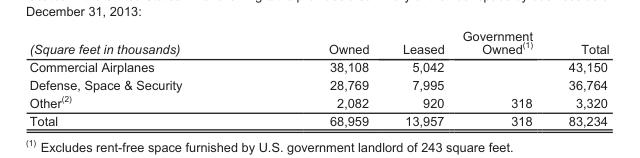table: (28, 28, 608, 127)
table column: (28, 28, 254, 127), (254, 28, 385, 127), (452, 28, 549, 127), (385, 28, 452, 127), (549, 28, 608, 127)
table column header: (28, 28, 608, 57)
table row: (28, 28, 608, 57), (28, 92, 608, 111), (28, 57, 608, 75), (28, 75, 608, 92), (28, 111, 608, 127)
